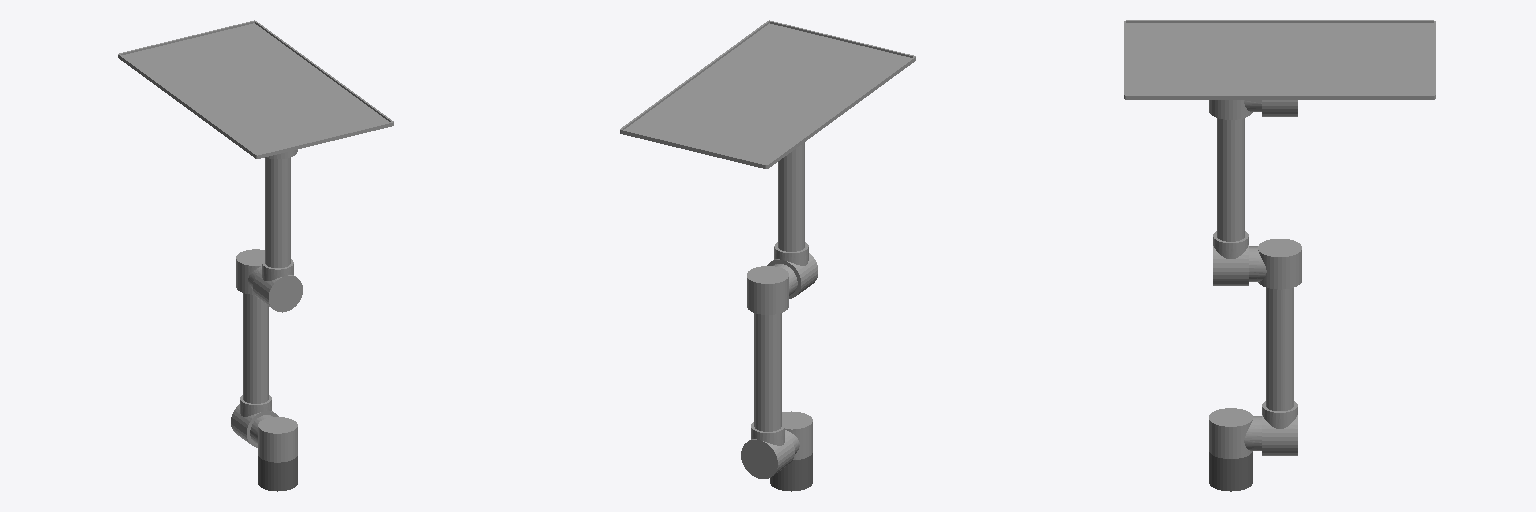
robot.urdf — arm:
<?xml version="1.0" encoding="utf-8"?>
<!-- This URDF was automatically created by SolidWorks to URDF Exporter! Originally created by [author] ([email redacted]) 
     Commit Version: 1.6.0-4-g7f85cfe  Build Version: 1.6.7995.38578
     For more information, please see http://wiki.ros.org/sw_urdf_exporter -->
<robot
  name="arm">
  <link
    name="base_link">
    <inertial>
      <origin
        xyz="3.0919E-35 -1.3477E-16 0.0386"
        rpy="0 0 0" />
      <mass
        value="0.31416" />
      <inertia
        ixx="0.00049932"
        ixy="1.6802E-36"
        ixz="-3.4231E-36"
        iyy="0.00049932"
        iyz="-1.4132E-19"
        izz="0.00054161" />
    </inertial>
    <visual>
      <origin
        xyz="0 0 0"
        rpy="0 0 0" />
      <geometry>
        <mesh
          filename="package://arm/meshes/base_link.STL" />
      </geometry>
      <material
        name="">
        <color
          rgba="0.45294 0.45294 0.45294 1" />
      </material>
    </visual>
    <collision>
      <origin
        xyz="0 0 0"
        rpy="0 0 0" />
      <geometry>
        <mesh
          filename="package://arm/meshes/base_link.STL" />
      </geometry>
    </collision>
  </link>
  <link
    name="link_1">
    <inertial>
      <origin
        xyz="-8.4523E-07 0.0014603 0.016557"
        rpy="0 0 0" />
      <mass
        value="0.3873" />
      <inertia
        ixx="0.00074262"
        ixy="1.5658E-09"
        ixz="-5.9387E-10"
        iyy="0.00071002"
        iyz="9.3616E-06"
        izz="0.00057485" />
    </inertial>
    <visual>
      <origin
        xyz="0 0 0"
        rpy="0 0 0" />
      <geometry>
        <mesh
          filename="package://arm/meshes/link_1.STL" />
      </geometry>
      <material
        name="">
        <color
          rgba="0.65294 0.65294 0.65294 1" />
      </material>
    </visual>
    <collision>
      <origin
        xyz="0 0 0"
        rpy="0 0 0" />
      <geometry>
        <mesh
          filename="package://arm/meshes/link_1.STL" />
      </geometry>
    </collision>
  </link>
  <joint
    name="joint_1"
    type="revolute">
    <origin
      xyz="0 0 0.12"
      rpy="-1.5708 0 0" />
    <parent
      link="base_link" />
    <child
      link="link_1" />
    <axis
      xyz="0 -1 0" />
    <limit
      lower="-3.142"
      upper="3.142"
      effort="300"
      velocity="3" />
  </joint>
  <link
    name="link_2">
    <inertial>
      <origin
        xyz="-0.00053784 -3.1131E-07 0.14452"
        rpy="0 0 0" />
      <mass
        value="1.0516" />
      <inertia
        ixx="0.0066453"
        ixy="-1.5658E-09"
        ixz="-9.3616E-06"
        iyy="0.0066779"
        iyz="-5.9387E-10"
        izz="0.0010452" />
    </inertial>
    <visual>
      <origin
        xyz="0 0 0"
        rpy="0 0 1.5708" />
      <geometry>
        <mesh
          filename="package://arm/meshes/link_2.STL" />
      </geometry>
      <material
        name="">
        <color
          rgba="0.65294 0.65294 0.65294 1" />
      </material>
    </visual>
    <collision>
      <origin
        xyz="0 0 0"
        rpy="0 0 0" />
      <geometry>
        <mesh
          filename="package://arm/meshes/link_2.STL" />
      </geometry>
    </collision>
  </link>
  <joint
    name="joint_2"
    type="revolute">
    <origin
      xyz="0 0 0.11"
      rpy="1.5708 0 0" />
    <parent
      link="link_1" />
    <child
      link="link_2" />
    <axis
      xyz="0 1 0" />
    <limit
      lower="-3.142"
      upper="3.142"
      effort="200"
      velocity="3" />
  </joint>
  <link
    name="link_3">
    <inertial>
      <origin
        xyz="8.4523E-07 -0.0014603 0.016557"
        rpy="0 0 0" />
      <mass
        value="0.3873" />
      <inertia
        ixx="0.00074262"
        ixy="1.5658E-09"
        ixz="5.9387E-10"
        iyy="0.00071002"
        iyz="-9.3616E-06"
        izz="0.00057485" />
    </inertial>
    <visual>
      <origin
        xyz="0 0 0"
        rpy="0 0 0" />
      <geometry>
        <mesh
          filename="package://arm/meshes/link_3.STL" />
      </geometry>
      <material
        name="">
        <color
          rgba="0.65294 0.65294 0.65294 1" />
      </material>
    </visual>
    <collision>
      <origin
        xyz="0 0 0"
        rpy="0 0 0" />
      <geometry>
        <mesh
          filename="package://arm/meshes/link_3.STL" />
      </geometry>
    </collision>
  </link>
  <joint
    name="joint_3"
    type="revolute">
    <origin
      xyz="0 0 0.42"
      rpy="1.5708 0 0" />
    <parent
      link="link_2" />
    <child
      link="link_3" />
    <axis
      xyz="0 1 0" />
    <limit
      lower="-3.142"
      upper="3.142"
      effort="200"
      velocity="3" />
  </joint>
  <link
    name="link_4">
    <inertial>
      <origin
        xyz="0.00053784 3.1131E-07 0.14452"
        rpy="0 0 0" />
      <mass
        value="1.0516" />
      <inertia
        ixx="0.0066453"
        ixy="-1.5658E-09"
        ixz="9.3616E-06"
        iyy="0.0066779"
        iyz="5.9387E-10"
        izz="0.0010452" />
    </inertial>
    <visual>
      <origin
        xyz="0 0 0"
        rpy="0 0 1.5708" />
      <geometry>
        <mesh
          filename="package://arm/meshes/link_4.STL" />
      </geometry>
      <material
        name="">
        <color
          rgba="0.65294 0.65294 0.65294 1" />
      </material>
    </visual>
    <collision>
      <origin
        xyz="0 0 0"
        rpy="0 0 0" />
      <geometry>
        <mesh
          filename="package://arm/meshes/link_4.STL" />
      </geometry>
    </collision>
  </link>
  <joint
    name="joint_4"
    type="revolute">
    <origin
      xyz="0 0 0.11"
      rpy="-1.5708 0 0" />
    <parent
      link="link_3" />
    <child
      link="link_4" />
    <axis
      xyz="0 -1 0" />
    <limit
      lower="-3.142"
      upper="3.142"
      effort="200"
      velocity="3" />
  </joint>
  <link
    name="link_5">
    <inertial>
      <origin
        xyz="0.016557 0.0014603 8.4523E-07"
        rpy="0 0 0" />
      <mass
        value="0.3873" />
      <inertia
        ixx="0.00057485"
        ixy="9.3616E-06"
        ixz="5.9387E-10"
        iyy="0.00071002"
        iyz="-1.5658E-09"
        izz="0.00074262" />
    </inertial>
    <visual>
      <origin
        xyz="0 0 0"
        rpy="0 -1.5708 0" />
      <geometry>
        <mesh
          filename="package://arm/meshes/link_5.STL" />
      </geometry>
      <material
        name="">
        <color
          rgba="0.65294 0.65294 0.65294 1" />
      </material>
    </visual>
    <collision>
      <origin
        xyz="0 0 0"
        rpy="0 0 0" />
      <geometry>
        <mesh
          filename="package://arm/meshes/link_5.STL" />
      </geometry>
    </collision>
  </link>
  <joint
    name="joint_5"
    type="revolute">
    <origin
      xyz="0 0 0.42"
      rpy="-1.5708 0 0" />
    <parent
      link="link_4" />
    <child
      link="link_5" />
    <axis
      xyz="0 -1 0" />
    <limit
      lower="-3.142"
      upper="3.142"
      effort="200"
      velocity="3" />
  </joint>
  <link
    name="link_6">
    <inertial>
      <origin
        xyz="-0.0014603 -8.4523E-07 0.016557"
        rpy="0 0 0" />
      <mass
        value="0.3873" />
      <inertia
        ixx="0.00071002"
        ixy="-1.5658E-09"
        ixz="-9.3616E-06"
        iyy="0.00074262"
        iyz="-5.9387E-10"
        izz="0.00057485" />
    </inertial>
    <visual>
      <origin
        xyz="0 0 0"
        rpy="0 0 1.5708" />
      <geometry>
        <mesh
          filename="package://arm/meshes/link_6.STL" />
      </geometry>
      <material
        name="">
        <color
          rgba="0.65294 0.65294 0.65294 1" />
      </material>
    </visual>
    <collision>
      <origin
        xyz="0 0 0"
        rpy="0 0 0" />
      <geometry>
        <mesh
          filename="package://arm/meshes/link_6.STL" />
      </geometry>
    </collision>
  </link>
  <joint
    name="join_6"
    type="revolute">
    <origin
      xyz="0 0 0.11"
      rpy="1.5708 0 0" />
    <parent
      link="link_5" />
    <child
      link="link_6" />
    <axis
      xyz="0 1 0" />
    <limit
      lower="-3.142"
      upper="3.142"
      effort="200"
      velocity="3" />
  </joint>
  <link
    name="link_7">
    <inertial>
      <origin
        xyz="6.69636084945449E-17 2.26207941267376E-15 -0.00294544608765834"
        rpy="0 0 0" />
      <mass
        value="1.56685176877775" />
      <inertia
        ixx="0.0610235795801421"
        ixy="1.57400570146885E-16"
        ixz="7.01255318732925E-17"
        iyy="0.020369712328907"
        iyz="-5.63852048683335E-18"
        izz="0.0813643115398278" />
    </inertial>
    <visual>
      <origin
        xyz="0 0 0"
        rpy="0 0 0" />
      <geometry>
        <mesh
          filename="package://arm/meshes/link_7.STL" />
      </geometry>
      <material
        name="">
        <color
          rgba="0.65294 0.65294 0.65294 1" />
      </material>
    </visual>
    <collision>
      <origin
        xyz="0 0 0"
        rpy="0 0 0" />
      <geometry>
        <mesh
          filename="package://arm/meshes/link_7.STL" />
      </geometry>
    </collision>
  </link>
  <joint
    name="joint_7"
    type="revolute">
    <origin
      xyz="0 0 0.085"
      rpy="0 0 0" />
    <parent
      link="link_6" />
    <child
      link="link_7" />
    <axis
      xyz="0 0 1" />
    <limit
      lower="-3.142"
      upper="3.142"
      effort="200"
      velocity="3" />
  </joint>
</robot>

--- What the picture shows (computed from the rendered views, not written in the file) ---
The picture shows the robot from 3 angles, left to right: view 1: azimuth 30°, elevation 25°; view 2: azimuth 150°, elevation 25°; view 3: azimuth 270°, elevation 25°; orthographic projection.
Model arm with 8 links and 7 joints (7 revolute), rooted at base_link, posed every joint at zero.
Links seen in each view (by area): view 1: link_7, link_4, link_2, link_1, base_link, link_3; view 2: link_7, link_2, link_4, link_3, link_1, base_link; view 3: link_7, link_2, link_4, link_3, link_1, base_link, link_5, link_6.
Link boxes in pixels (x1,y1,x2,y2): link_7: (118,20,393,158); link_4: (253,157,302,312); link_2: (231,293,278,447); link_1: (250,415,297,462); base_link: (258,456,297,491); link_3: (236,249,264,294); link_7: (620,20,915,168); link_2: (741,313,794,478); link_4: (767,142,817,298); link_3: (747,264,797,314); link_1: (782,411,812,459); base_link: (770,453,812,491); link_7: (1124,20,1435,99); link_2: (1262,288,1297,455); link_4: (1213,118,1248,285); link_3: (1249,239,1301,289); link_1: (1209,408,1261,458); base_link: (1209,452,1252,491); link_5: (1209,100,1261,119); link_6: (1262,100,1297,116).
Bounding box of the posed robot: 0.4 × 0.7 × 1.05 m (x, y, z).
8 mesh visuals loaded from 8 distinct referenced files (8 binary STL).